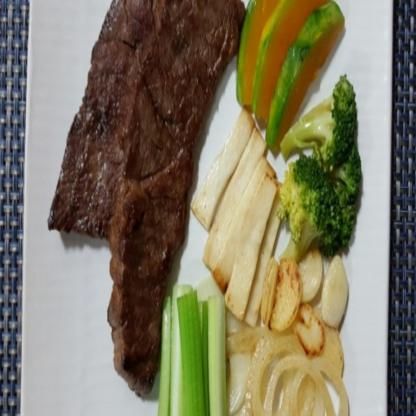Carne: (110, 0, 247, 360), (39, 0, 163, 241)
